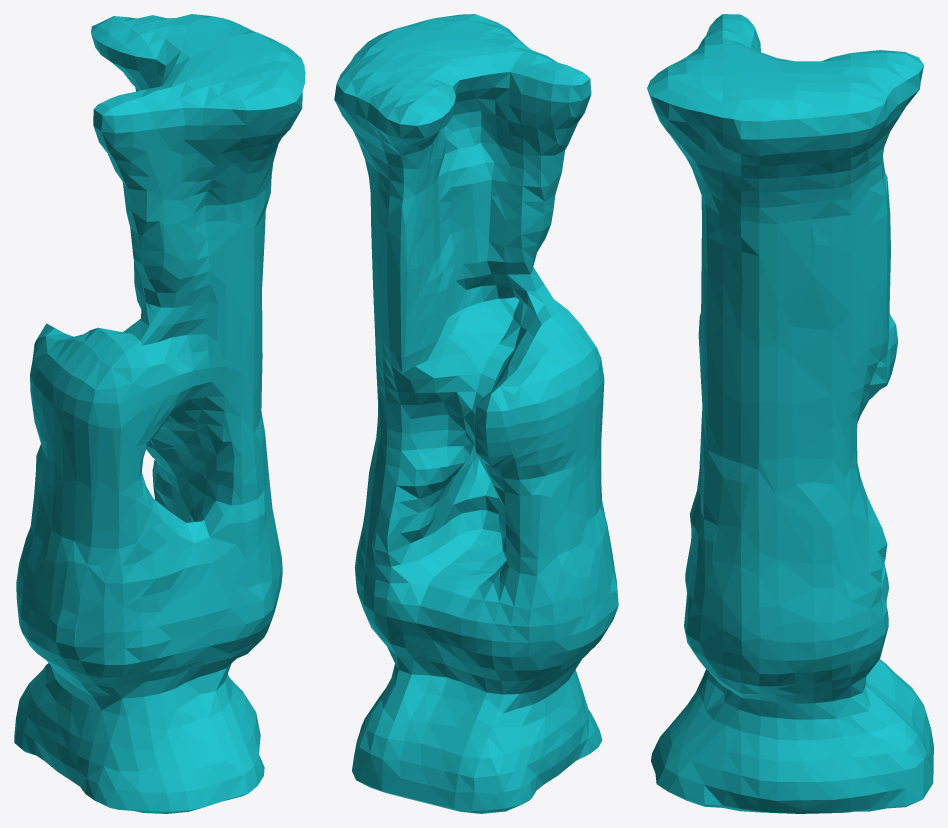
The picture shows the model from 3 angles, left to right: view 1: azimuth 30°, elevation 25°; view 2: azimuth 150°, elevation 25°; view 3: azimuth 270°, elevation 25°; orthographic projection. The views are drawn at different scales.
Visible parts, largest first — view 1: Liquid_Domain; view 2: Liquid_Domain; view 3: Liquid_Domain.
Boxes of the visible parts, <box> form: Liquid_Domain: <box>14,14,305,813</box>; Liquid_Domain: <box>334,14,618,813</box>; Liquid_Domain: <box>647,14,933,813</box>.
Size of the model in its own units: 40.09 by 108 by 37.83.
